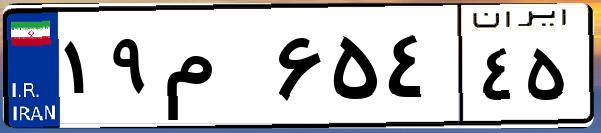1: (57, 26, 110, 100)
4: (385, 28, 445, 110), (475, 38, 525, 113)
5: (330, 28, 385, 110), (525, 38, 570, 115)
6: (270, 28, 330, 110)
9: (110, 28, 158, 98)
م: (158, 20, 270, 120)
